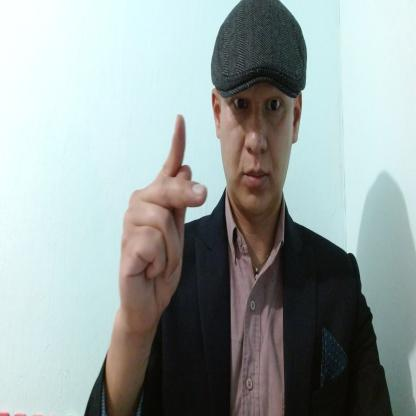P: (118, 107, 212, 331)
